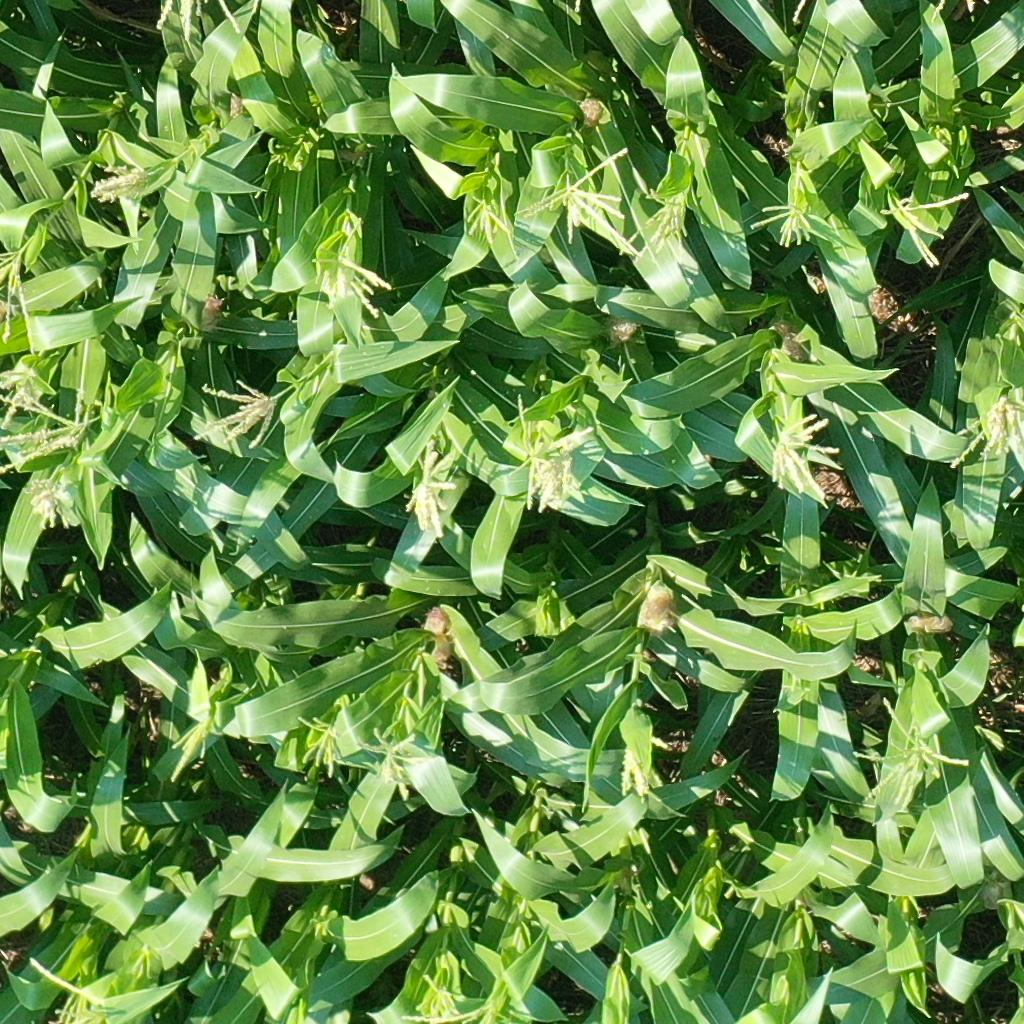Tassel: (847, 695, 972, 813), (517, 145, 637, 252), (505, 391, 604, 516), (1, 389, 110, 474), (313, 216, 396, 320), (765, 413, 849, 508), (880, 186, 973, 271), (27, 954, 127, 1024), (195, 379, 282, 452), (950, 390, 1024, 472), (405, 436, 458, 543), (359, 722, 424, 808), (624, 188, 697, 262), (1, 235, 39, 355), (745, 202, 832, 253), (402, 993, 541, 1024), (155, 1, 245, 45), (167, 696, 211, 784), (23, 469, 77, 535), (291, 713, 345, 778), (89, 160, 158, 207), (1, 364, 45, 428), (415, 973, 467, 1024), (462, 195, 514, 245), (617, 749, 664, 804)
